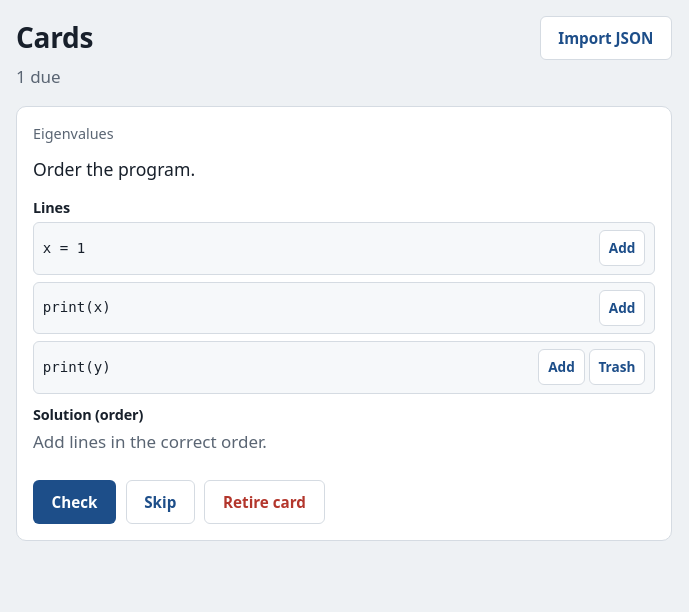
Test: Cards screen › parsons: sends the order in `given` with local `correct`
This screenshot has width=689, height=612.
Expected: the text "Order the program." is shown, [33, 157, 195, 181]
Click the button "Add" in the row of "x = 1". click: (622, 248)
box: [599, 230, 645, 266]
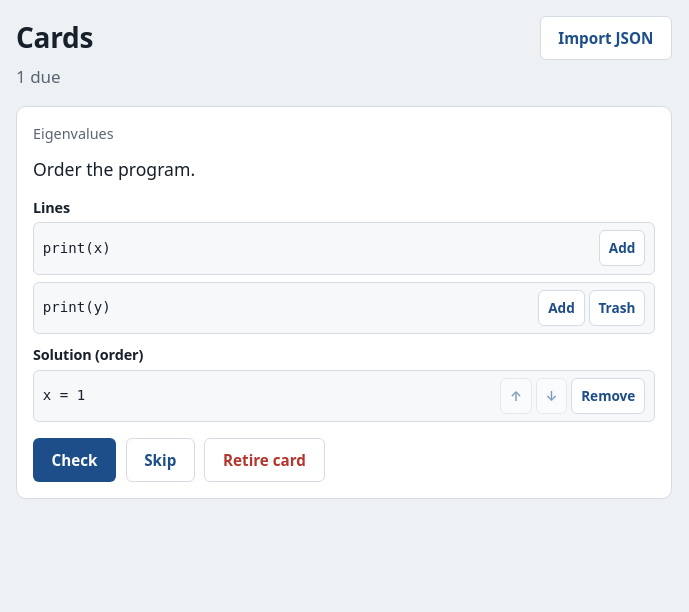
Click the button "Add" in the row of "print(x)". click: (622, 248)
box: [599, 230, 645, 266]
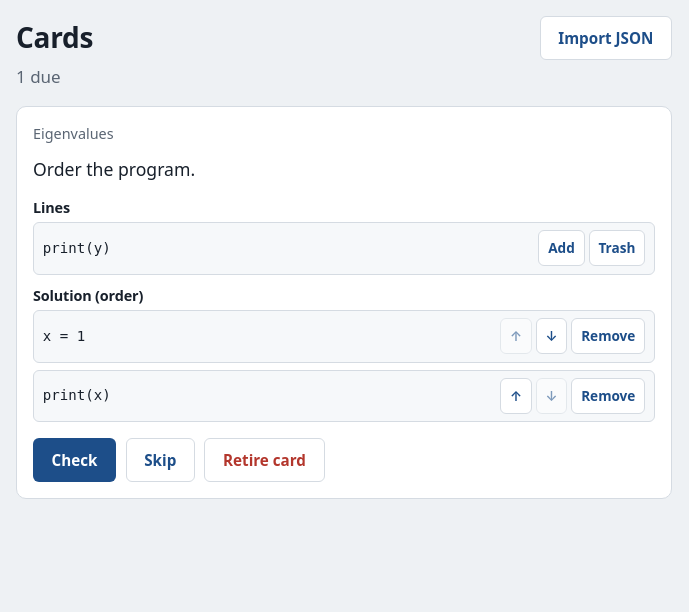
Click the button "Check". click: (74, 460)
box: [33, 438, 116, 482]
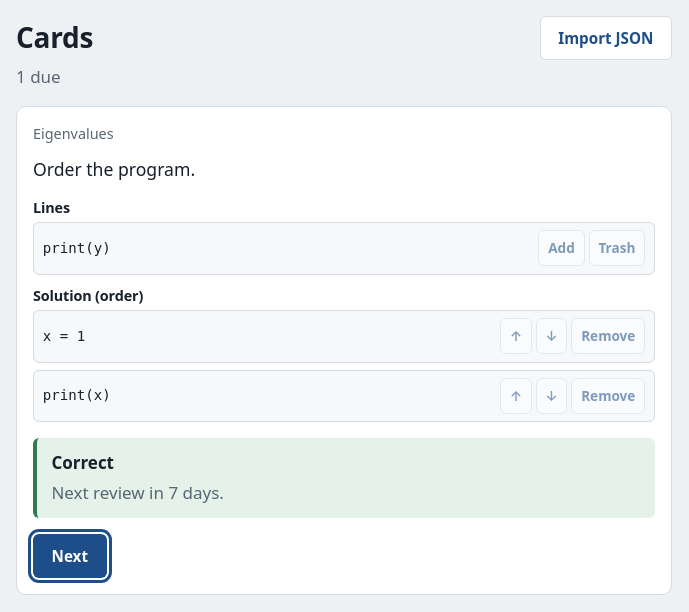
Expected: the text "Correct" is shown, [51, 451, 114, 474]
